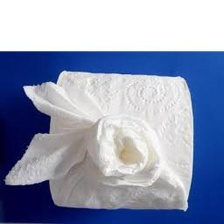tissue: (0, 66, 201, 217)
